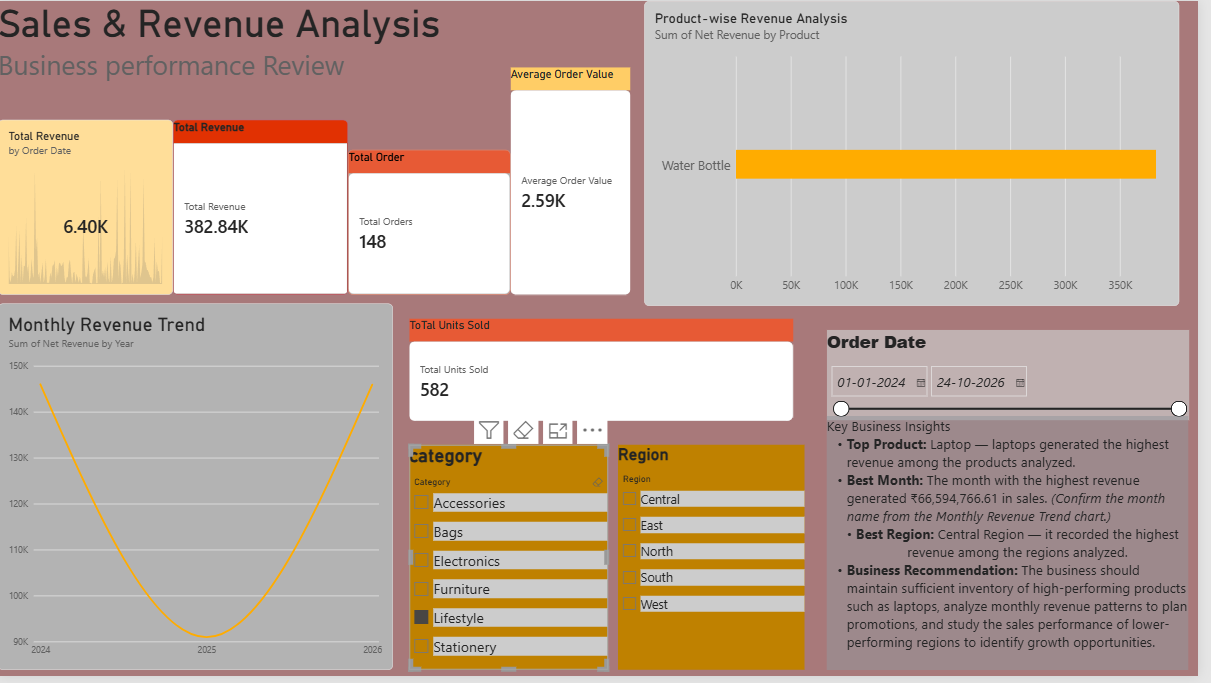

This screenshot's page, from the dashboard's own definition file:
{"tool":"powerbi","page":{"name":"Page 1","canvas":[1920,1080],"ordinal":0},"visuals":[{"type":"cardVisual","title":"Total Revenue","fields":{"Data":["Sales_Data.Total Revenue"]},"box":[280,190,280,280],"z":0},{"type":"cardVisual","title":"Total Order","fields":{"Data":["Sales_Data.Total Orders"]},"box":[560,238,260,232],"z":1000},{"type":"cardVisual","title":"ToTal Units Sold","fields":{"Data":["Sales_Data.Total Units Sold"]},"box":[658,508,614,164],"z":2000},{"type":"cardVisual","title":"Average Order Value","fields":{"Data":["Sales_Data.Average Order Value"]},"box":[820,106,192,364],"z":3000},{"type":"clusteredBarChart","title":"Product-wise Revenue Analysis","fields":{"Category":["Sales_Data.Product"],"Y":["Sum(Sales_Data.Net Revenue)"]},"box":[1034,0,856,488],"z":5000},{"type":"lineChart","title":"Monthly Revenue Trend","fields":{"Category":["Sales_Data.Order Date.Variation.Date Hierarchy.Year","Sales_Data.Order Date.Variation.Date Hierarchy.Quarter","Sales_Data.Order Date.Variation.Date Hierarchy.Month","Sales_Data.Order Date.Variation.Date Hierarchy.Day"],"Y":["Sum(Sales_Data.Net Revenue)"]},"box":[0,484,632,586],"z":6000},{"type":"slicer","title":"Region","fields":{"Values":["Sales_Data.Region"]},"box":[992,710,298,360],"z":7000},{"type":"slicer","title":"category","fields":{"Values":["Sales_Data.Category"]},"box":[658,710,317.5,360],"z":8000},{"type":"slicer","title":"Order Date","fields":{"Values":["Sales_Data.Order Date"]},"box":[1325,525,580,145],"z":9000},{"type":"kpi","fields":{"Indicator":["Sales_Data.Total Revenue"],"TrendLine":["Sales_Data.Order Date"]},"box":[0,190,280,280],"z":10000},{"type":"textbox","box":[280,0,273,213],"z":11000},{"type":"textbox","box":[1325,663.3,578.3,406.7],"z":12000},{"type":"textbox","title":"Sales & Revenue Analysis","box":[0,0,888.3,173.3],"z":12001}]}

Visuals, with their boxes in screenshot pixels (x1, y1, x2, y2), scaled from the page's 1920x1080 canvas onto the 1211x683 screenshot:
"Total Revenue" cardVisual: region(177, 120, 353, 297)
"Total Order" cardVisual: region(353, 151, 517, 297)
"ToTal Units Sold" cardVisual: region(415, 321, 802, 425)
"Average Order Value" cardVisual: region(517, 67, 638, 297)
"Product-wise Revenue Analysis" clusteredBarChart: region(652, 0, 1192, 309)
"Monthly Revenue Trend" lineChart: region(0, 306, 399, 677)
"Region" slicer: region(626, 449, 814, 677)
"category" slicer: region(415, 449, 615, 677)
"Order Date" slicer: region(836, 332, 1202, 424)
kpi - Sales_Data.Total Revenue x Sales_Data.Order Date: region(0, 120, 177, 297)
textbox: region(177, 0, 349, 135)
textbox: region(836, 419, 1200, 677)
"Sales & Revenue Analysis" textbox: region(0, 0, 560, 110)
